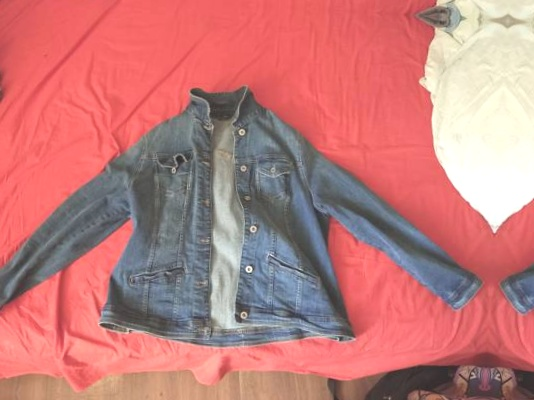Blazer: (0, 70, 503, 379), (486, 103, 534, 400)
